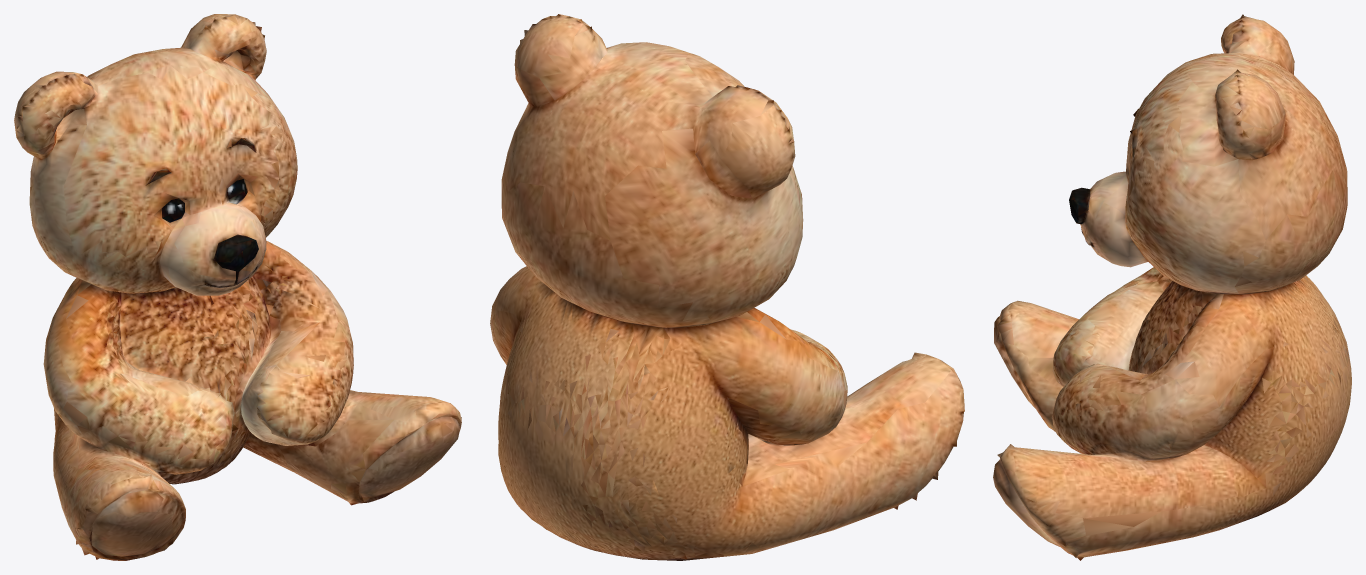
File: plush.glb
3 views of the same model, side by side, from view 1: azimuth 30°, elevation 25°; view 2: azimuth 150°, elevation 25°; view 3: azimuth 270°, elevation 25° (orthographic). The views are drawn at different scales.
Parts seen in each view (by area): view 1: plush; view 2: plush; view 3: plush.
Boxes of the visible parts, x1,y1,x2,y2 form: plush: (14, 14, 461, 560); plush: (490, 14, 964, 560); plush: (993, 14, 1351, 560).
Size of the model in its own units: 0.8964 by 1 by 0.7346.
1 material, 1 textured.
